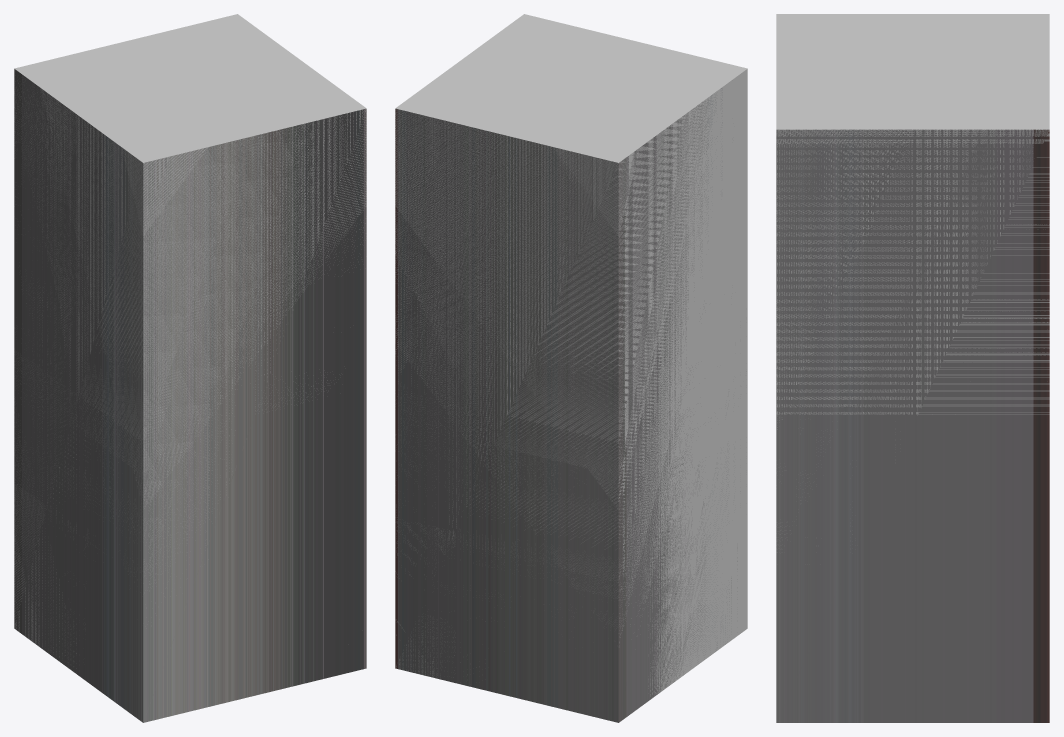
Rendered from file_cabinet.DAE.
3 renders of one model, left to right at view 1: azimuth 30°, elevation 25°; view 2: azimuth 150°, elevation 25°; view 3: azimuth 270°, elevation 25°, orthographic. The views are drawn at different scales.
Parts seen in each view (by area): view 1: colbox-1, bounds; view 2: colbox-1, bounds; view 3: colbox-1, bounds.
Boxes of the visible parts, <box> form: colbox-1: <box>14,69,366,722</box>; bounds: <box>14,14,366,673</box>; colbox-1: <box>395,88,746,722</box>; bounds: <box>395,14,747,697</box>; colbox-1: <box>776,129,1049,722</box>; bounds: <box>776,14,1049,552</box>.
Size of the model in its own units: 80.08 by 80.08 by 192.
